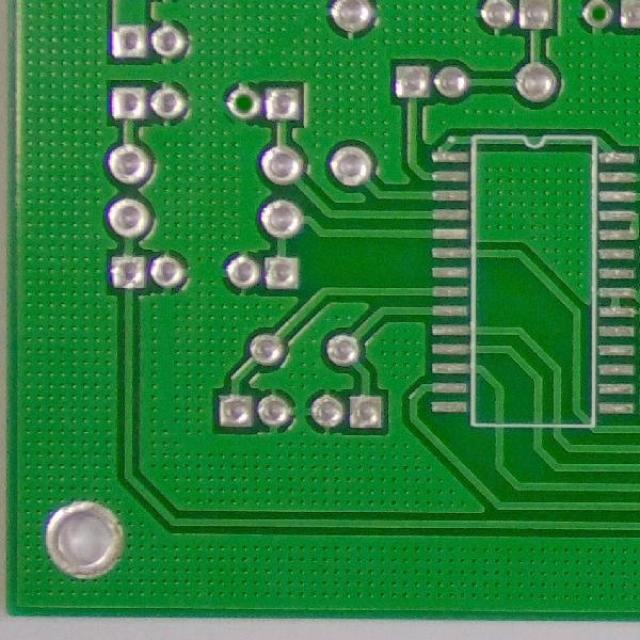missing_hole: (224, 80, 260, 122), (584, 1, 614, 31)
